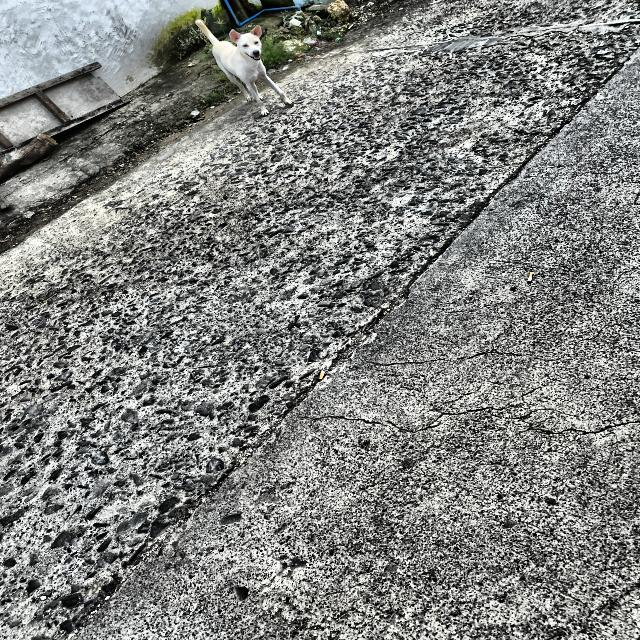major_scaling: (0, 33, 604, 619)
